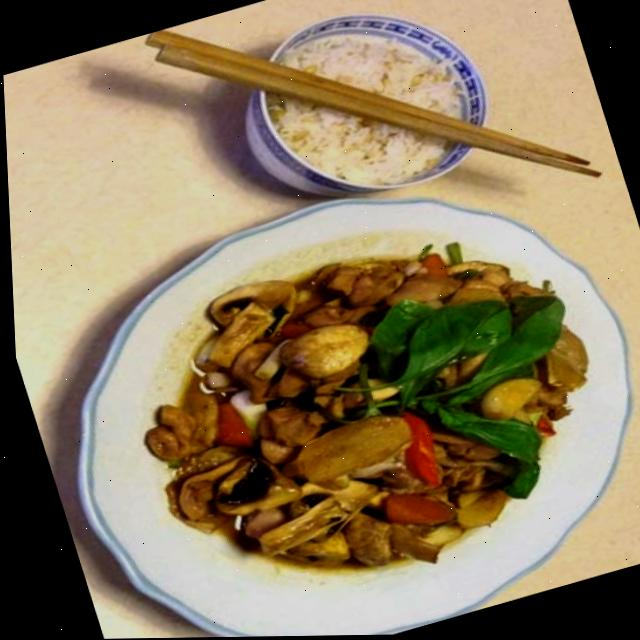鸡肉料理 含炸鸡: (19, 158, 640, 640)
